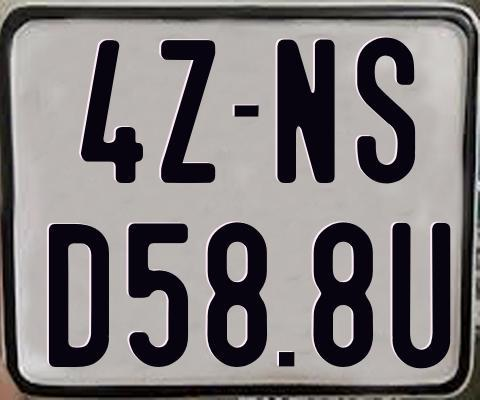4: (78, 37, 141, 183)
5: (125, 221, 189, 371)
8: (313, 221, 376, 369), (204, 221, 264, 366)
D: (49, 223, 115, 367)
N: (276, 39, 338, 189)
S: (355, 34, 417, 184)
U: (389, 222, 451, 368)
Z: (160, 39, 214, 185)
